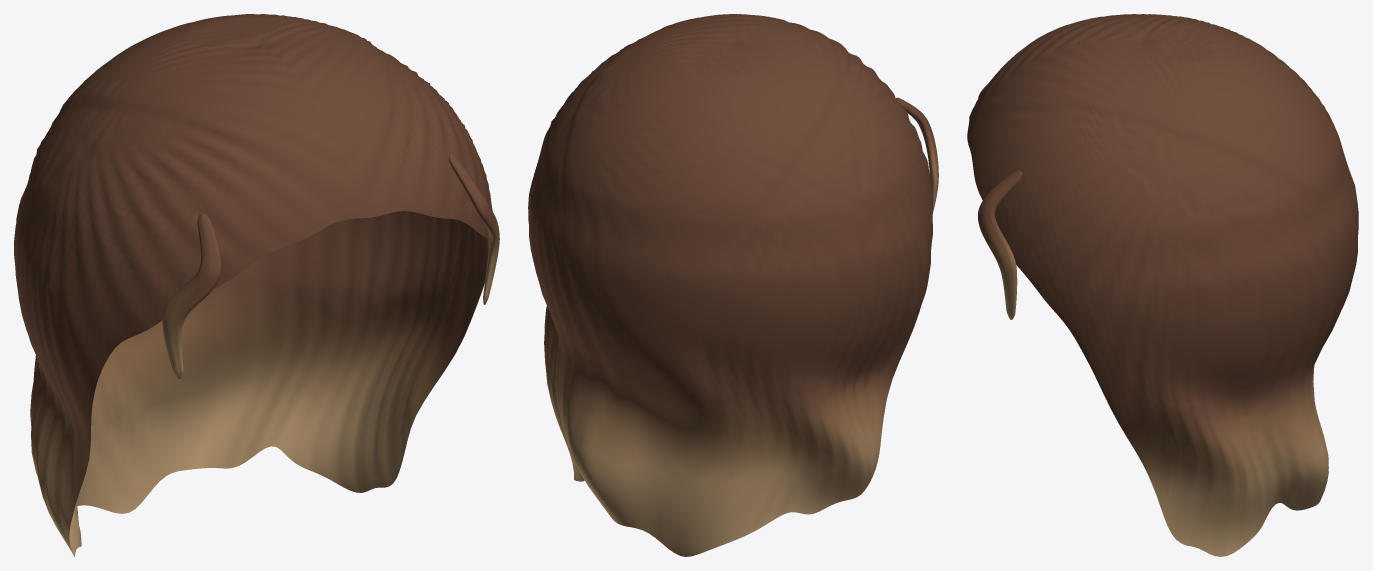
Rendered from space-buns-bucket-ombre.glb.
3 renders of one model, left to right at view 1: azimuth 30°, elevation 25°; view 2: azimuth 150°, elevation 25°; view 3: azimuth 270°, elevation 25°, orthographic. The views are drawn at different scales.
Visible parts, largest first — view 1: 226 hair / Hair / chestnut226.002; view 2: 226 hair / Hair / chestnut226.002; view 3: 226 hair / Hair / chestnut226.002.
Boxes of the visible parts, x1,y1,x2,y2 form: 226 hair / Hair / chestnut226.002: [14, 14, 499, 556]; 226 hair / Hair / chestnut226.002: [528, 14, 938, 556]; 226 hair / Hair / chestnut226.002: [967, 14, 1358, 556].
Bounding box in the file's own units: 0.8048 × 0.9707 × 0.7316.
1 material, 1 textured.
